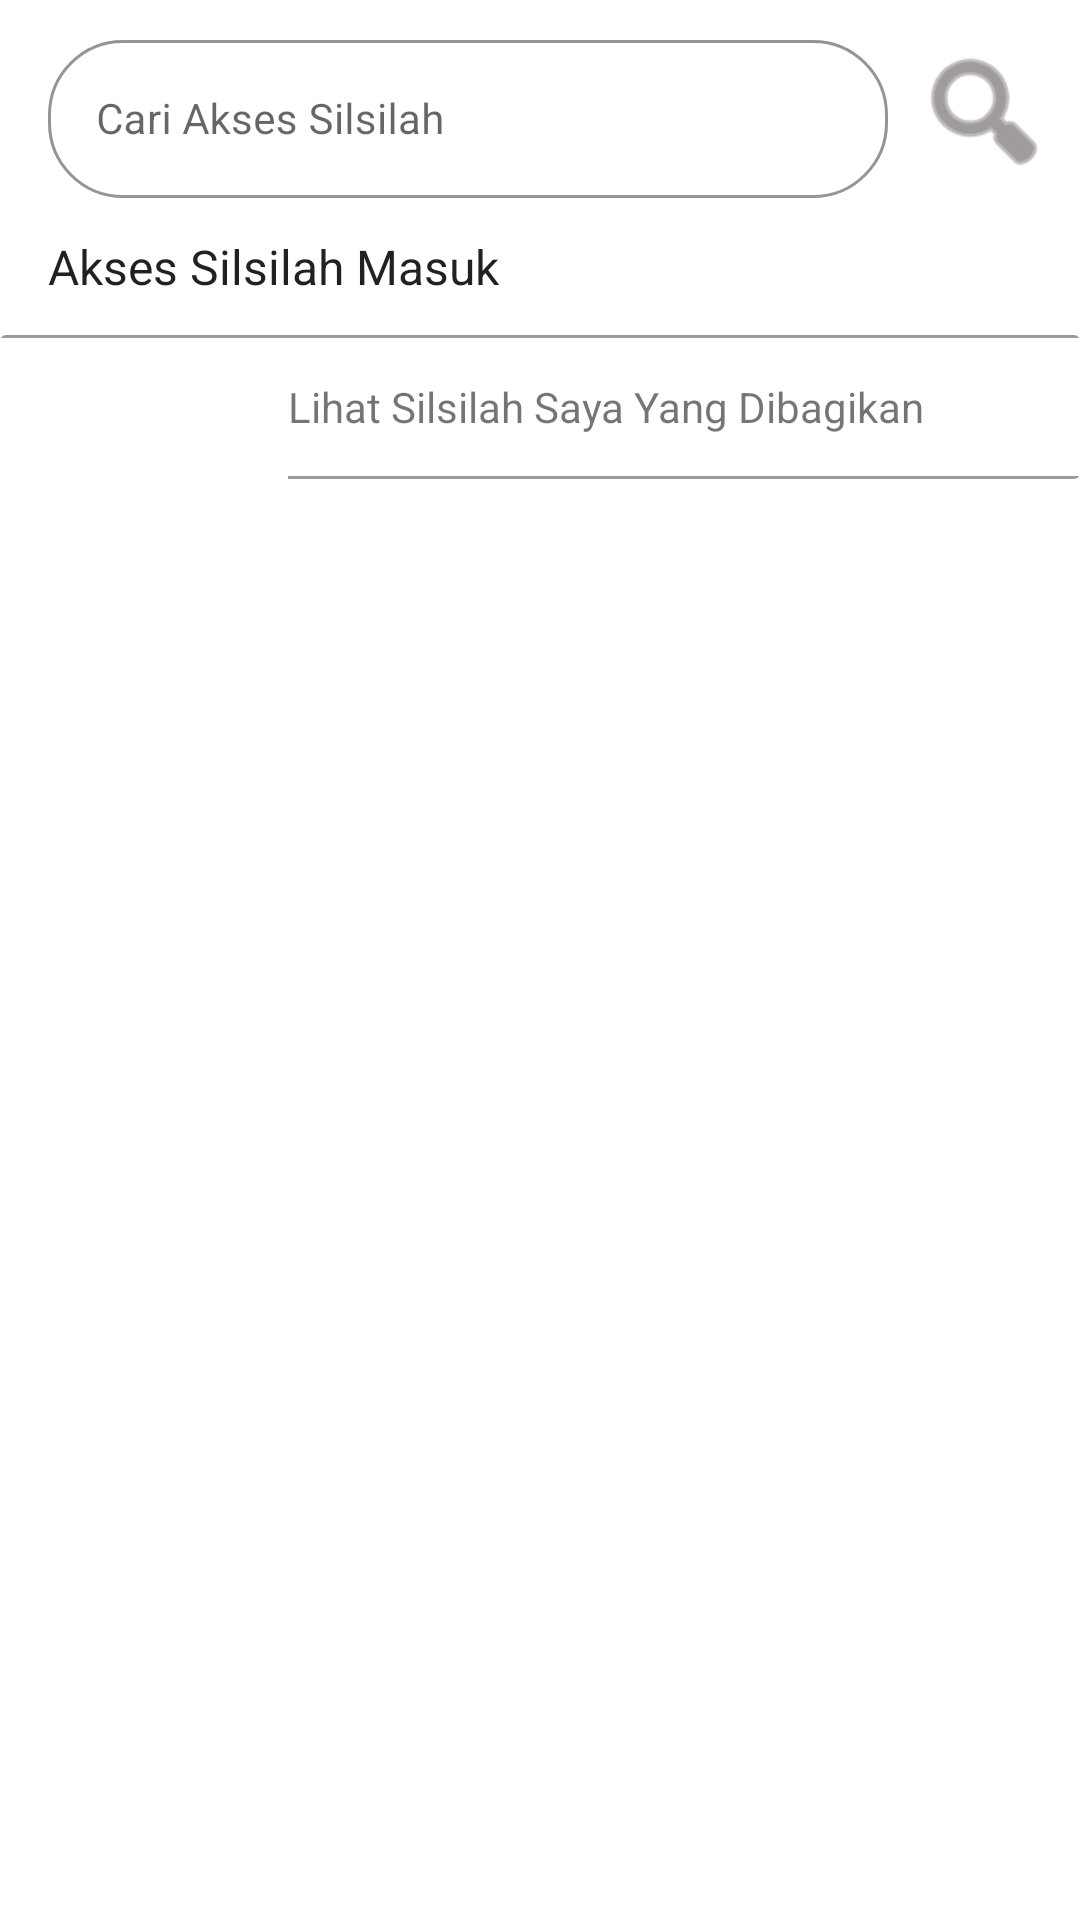

Screen size 1080×1920. Icon name, then its center in pixels as (x,y):
search: (984,111)
